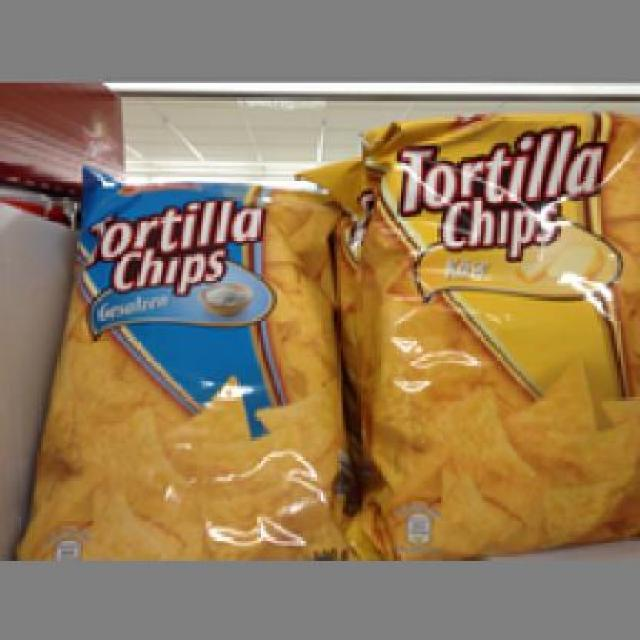Chips: (337, 106, 637, 548), (26, 166, 352, 552)
